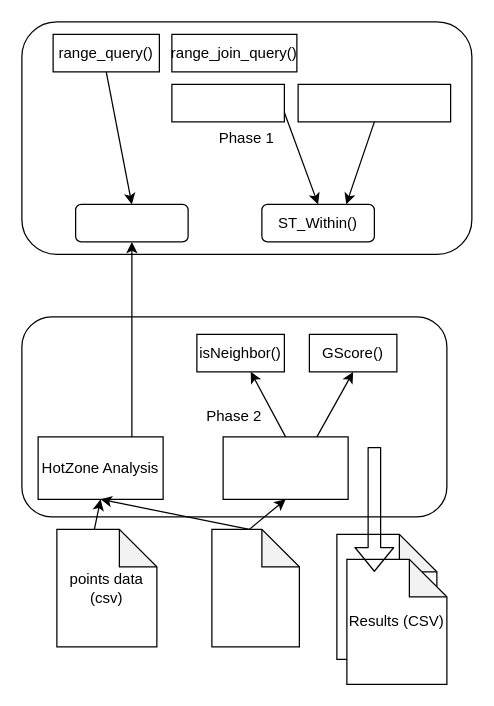
The diagram is 494 pixels wide and 706 high, and some of its shapes have lost their labels. Here are the shapes that lost their labels. From the top down, the box of each, then its label:
(171, 83, 284, 122): distance_query()
(297, 83, 451, 122): distance_join_query()
(74, 203, 188, 242): ST_Contains()
(222, 436, 348, 499): HotCell Analysis
(211, 528, 299, 647): rectangle data (csv)
